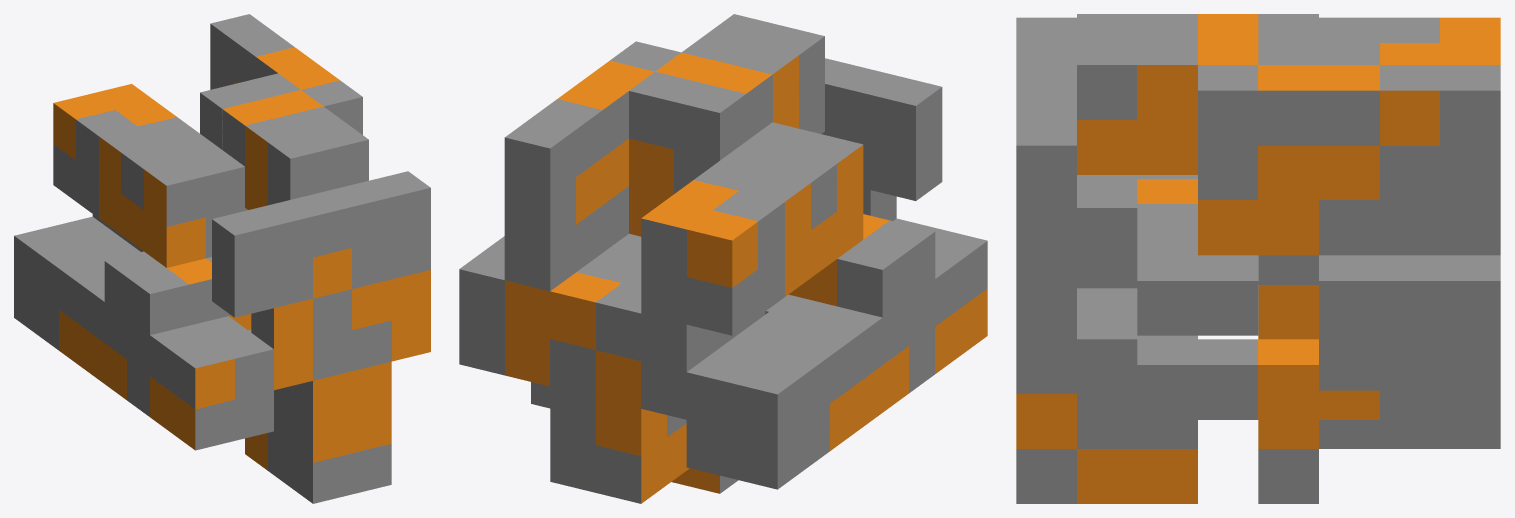
File: Frame Trash.obj
3 renders of one model, left to right at view 1: azimuth 30°, elevation 25°; view 2: azimuth 150°, elevation 25°; view 3: azimuth 270°, elevation 25°, orthographic. The views are drawn at different scales.
Visible parts, largest first — view 1: cube; view 2: cube; view 3: cube.
Boxes of the visible parts, x1=… form: cube: x1=14, y1=14, x2=430, y2=503; cube: x1=459, y1=14, x2=987, y2=503; cube: x1=1016, y1=14, x2=1500, y2=503.
Bounding box in the file's own units: 0.4375 × 0.5 × 0.5.
Materials: 1 (1 with a texture image).
